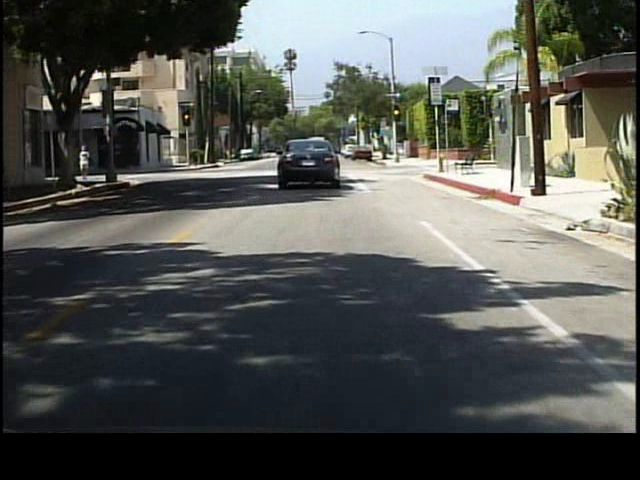person: (77, 143, 93, 186)
